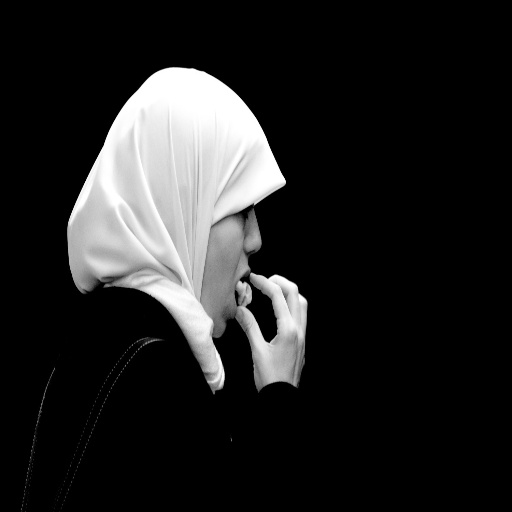hand: (229, 263, 310, 406)
